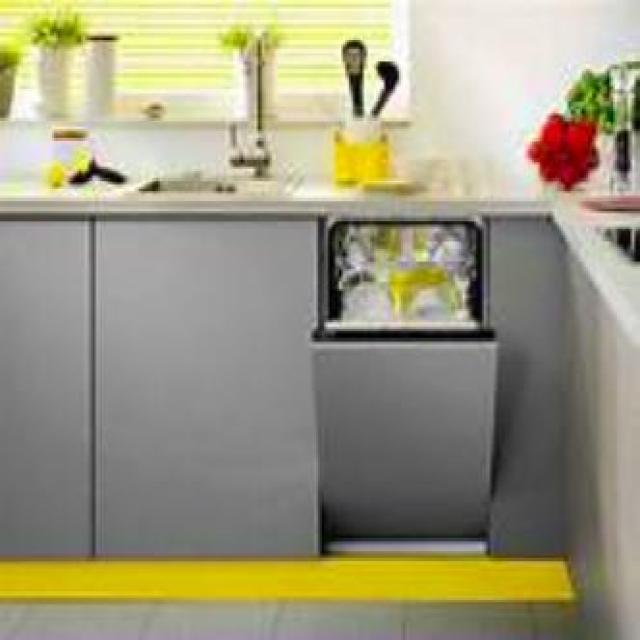dishwasher: (306, 207, 499, 556)
